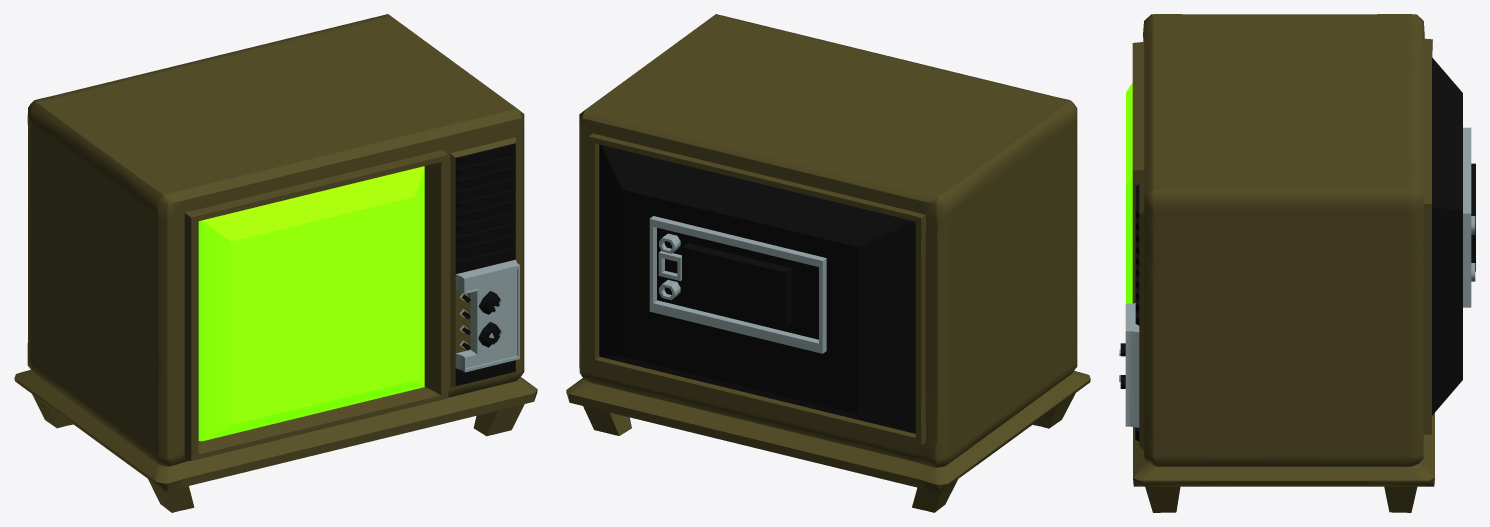
3 renders of one model, left to right at view 1: azimuth 30°, elevation 25°; view 2: azimuth 150°, elevation 25°; view 3: azimuth 270°, elevation 25°, orthographic.
Visible parts, largest first — view 1: pCube152; view 2: pCube152; view 3: pCube152.
Boxes of the visible parts, left/top/right/bottom form: pCube152: left=14, top=14, right=537, bottom=512; pCube152: left=566, top=14, right=1090, bottom=512; pCube152: left=1119, top=14, right=1475, bottom=512.
Size of the model in its own units: 0.1661 by 0.1334 by 0.1323.
